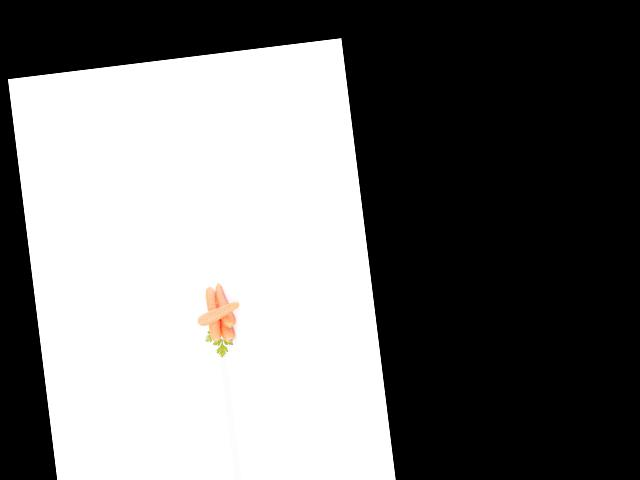carrot: (212, 290, 237, 343)
